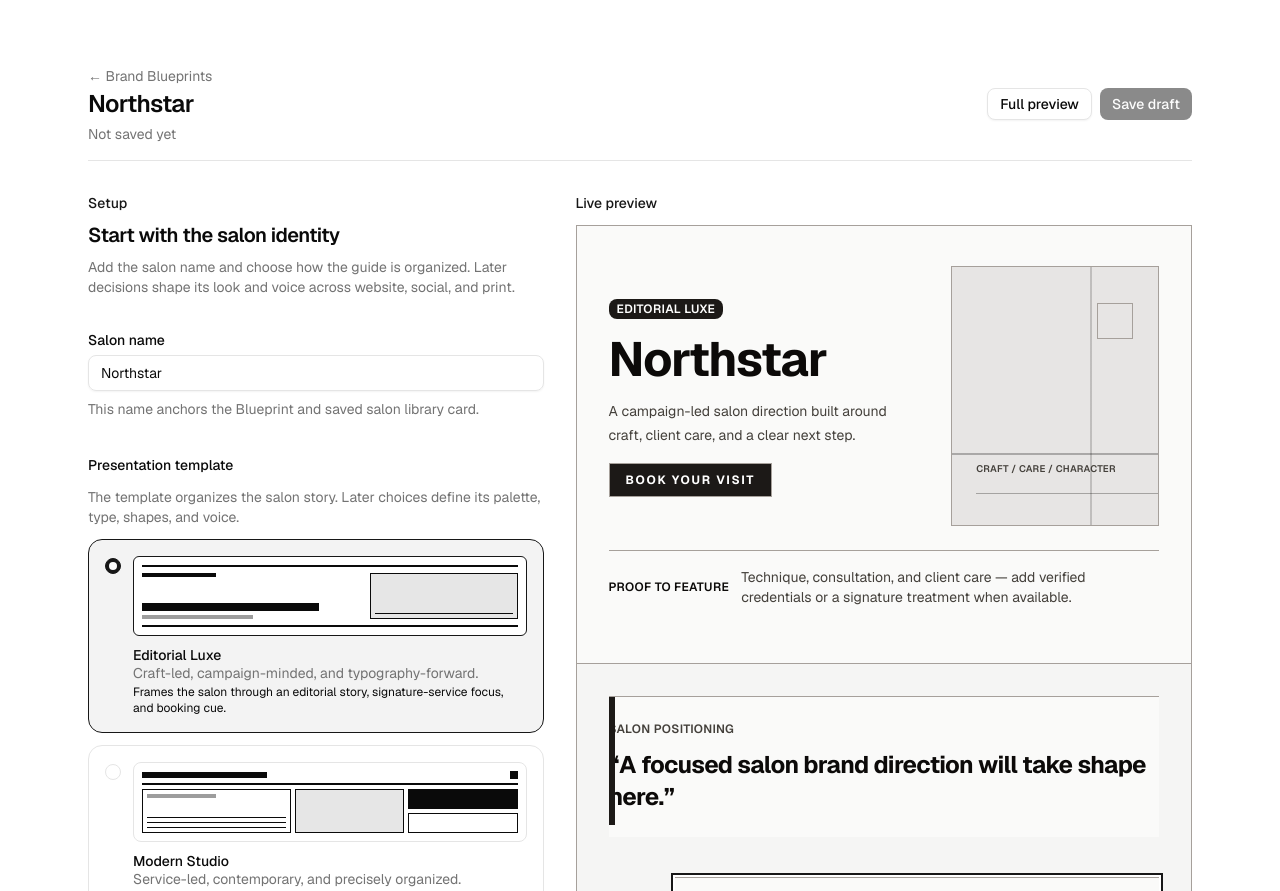
Test: BlueprintWorkspace › keeps edits made during a first save without inserting twice or navigating away
This screenshot has width=1280, height=891.
Replace the text in the field labelled "Salon name" with "Submitted name" at (316, 373), box [88, 355, 544, 391]
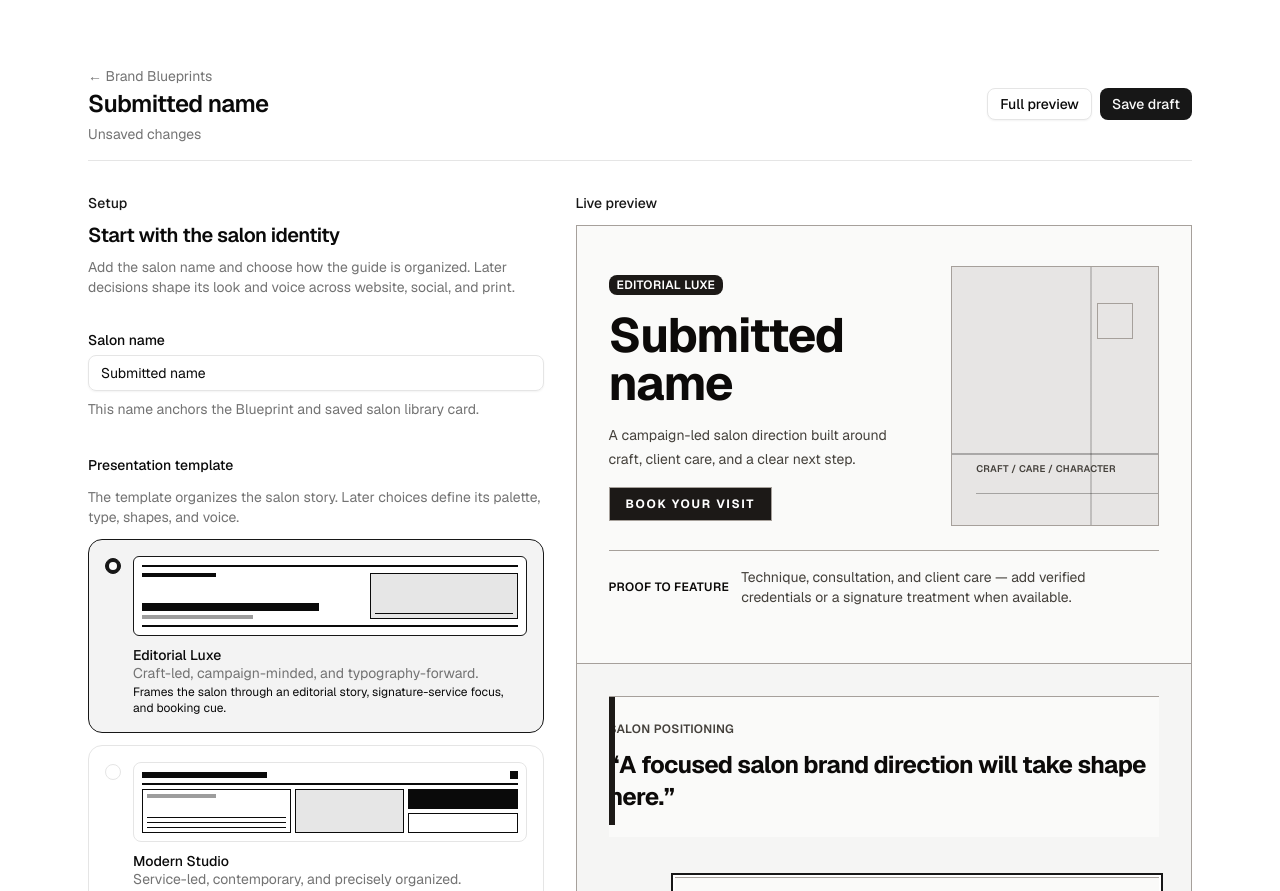
Click the button "Save draft" at (1146, 104), box [1100, 88, 1192, 120]
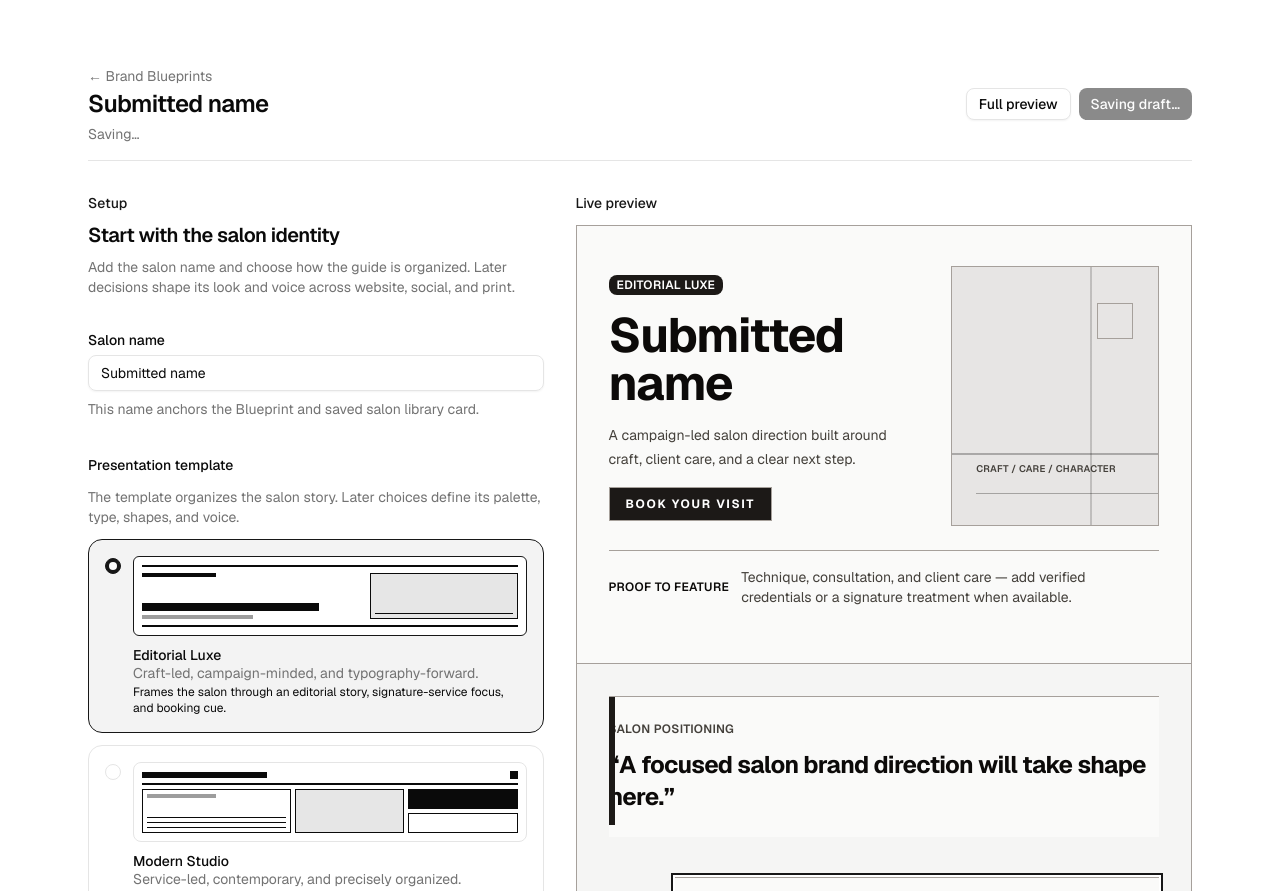
Replace the text in the field labelled "Salon name" with "Newer local name" at (316, 373), box [88, 355, 544, 391]
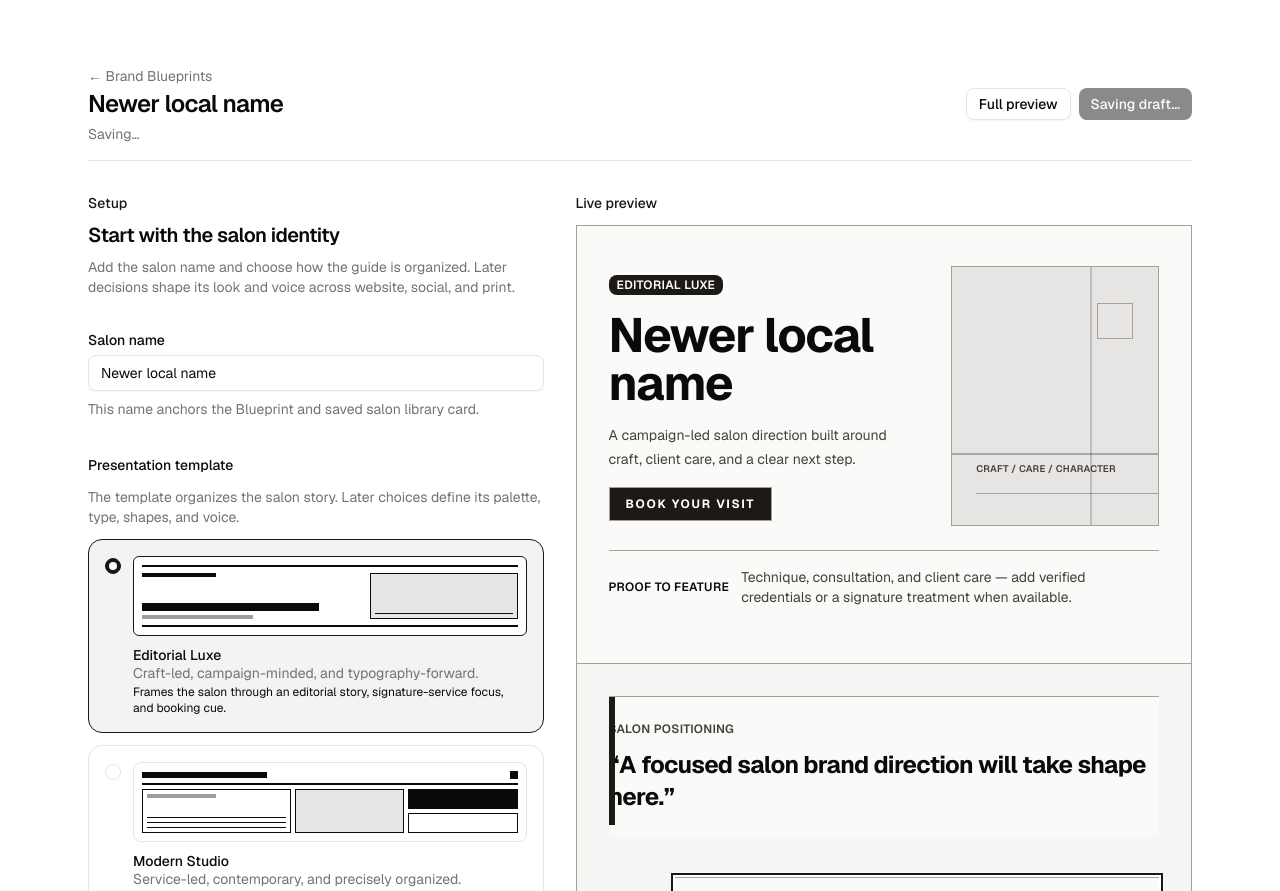
expect the button "Saving draft…" is disabled: met
Click the button "Saving draft…" at (1135, 104), box [1079, 88, 1192, 120]
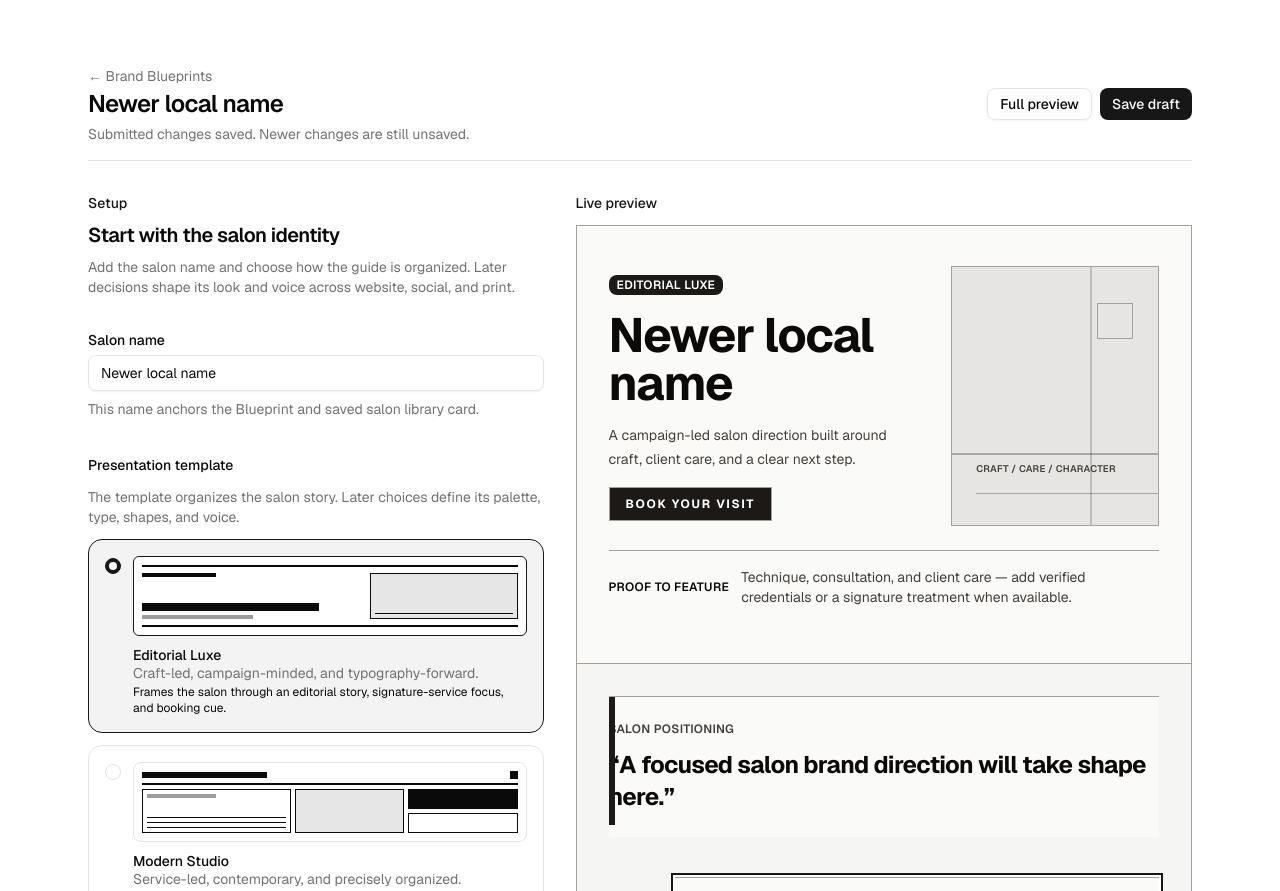
expect the text "Submitted changes saved. Newer changes are still unsaved." is shown: met, box [88, 125, 469, 143]
